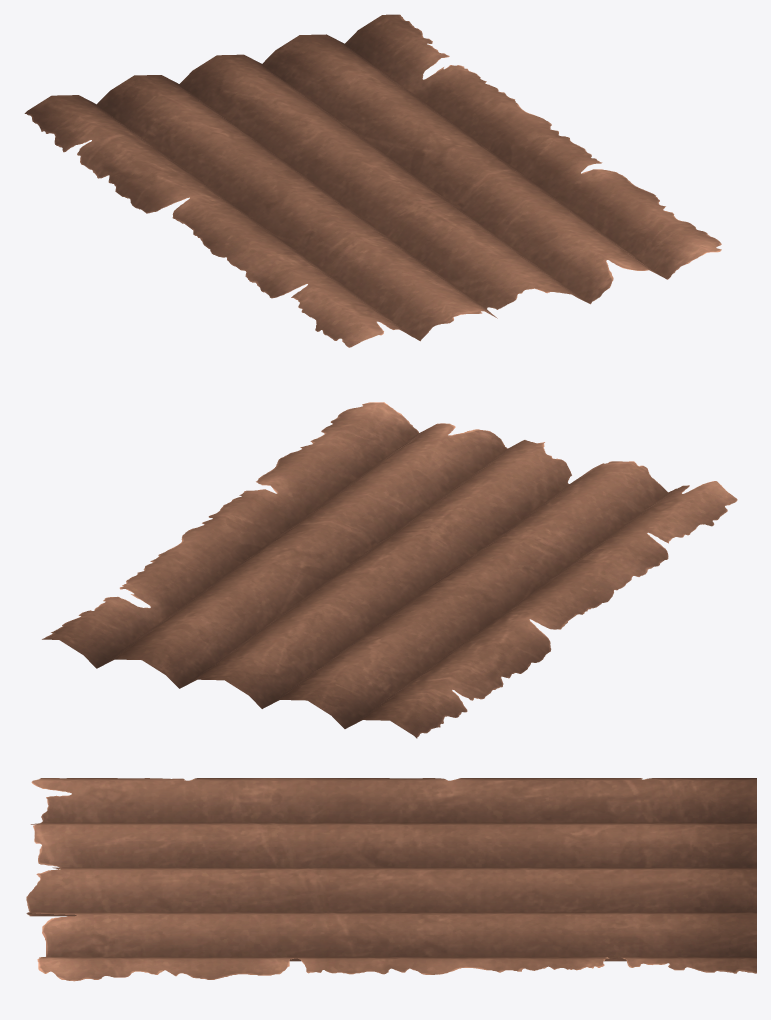
File: obj_curtains.gltf
3 views of the same model, one above another, from view 1: azimuth 30°, elevation 25°; view 2: azimuth 150°, elevation 25°; view 3: azimuth 270°, elevation 25° (orthographic). The views are drawn at different scales.
Parts seen in each view (by area): view 1: obj_curtains; view 2: obj_curtains; view 3: obj_curtains.
Part boxes in pixels (box(x1,y1,x2,y2)): obj_curtains: box(24, 14, 721, 347); obj_curtains: box(42, 402, 737, 738); obj_curtains: box(26, 778, 756, 981).
Bounding box in the file's own units: 102 × 4.66 × 144.
Materials: 1 (1 with a texture image).
